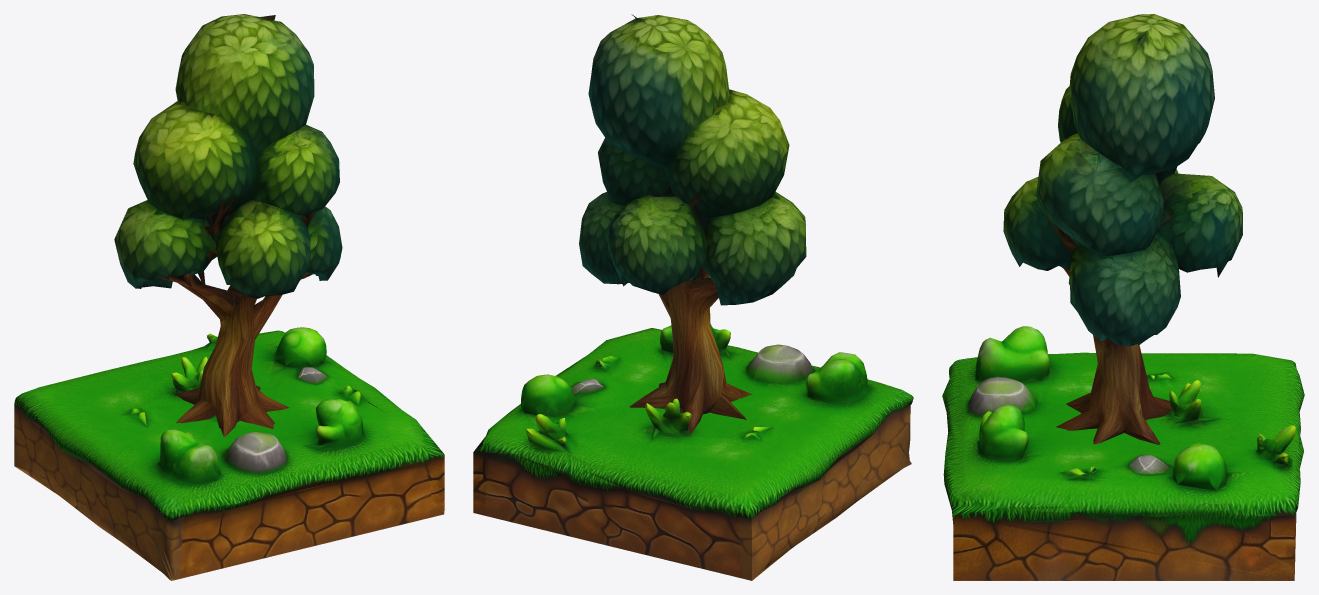
Rendered from veg_trees.glb.
The picture shows the model from 3 angles, left to right: view 1: azimuth 30°, elevation 25°; view 2: azimuth 150°, elevation 25°; view 3: azimuth 270°, elevation 25°; orthographic projection. The views are drawn at different scales.
Parts seen in each view (by area): view 1: Mesh_0.002; view 2: Mesh_0.002; view 3: Mesh_0.002.
Boxes of the visible parts, bbox=[...] form: Mesh_0.002: bbox=[14, 14, 444, 580]; Mesh_0.002: bbox=[473, 14, 913, 580]; Mesh_0.002: bbox=[942, 14, 1304, 580].
Bounding box in the file's own units: 1.88 × 2.85 × 1.88.
2 materials, 2 textured.
